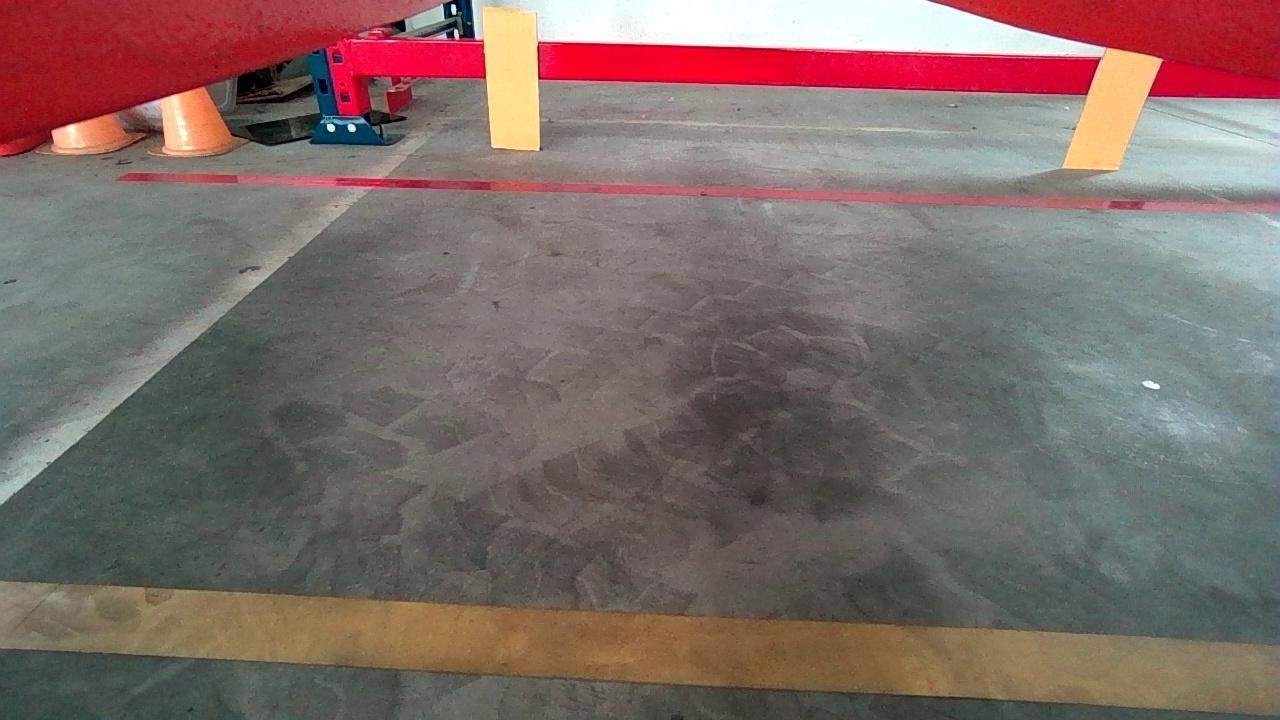h_rack: (344, 41, 1280, 96)
orange_strip: (1059, 44, 1161, 169), (481, 7, 537, 149)
red_line: (115, 169, 1278, 212)
yellow_line: (0, 578, 1280, 712)
